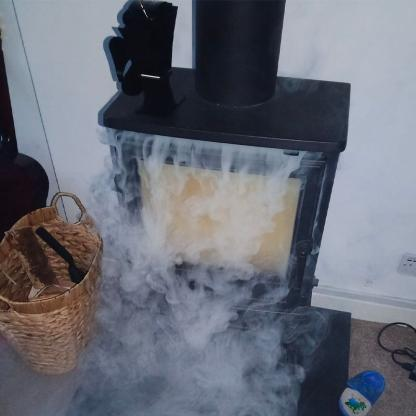smoke: (0, 130, 339, 416)
